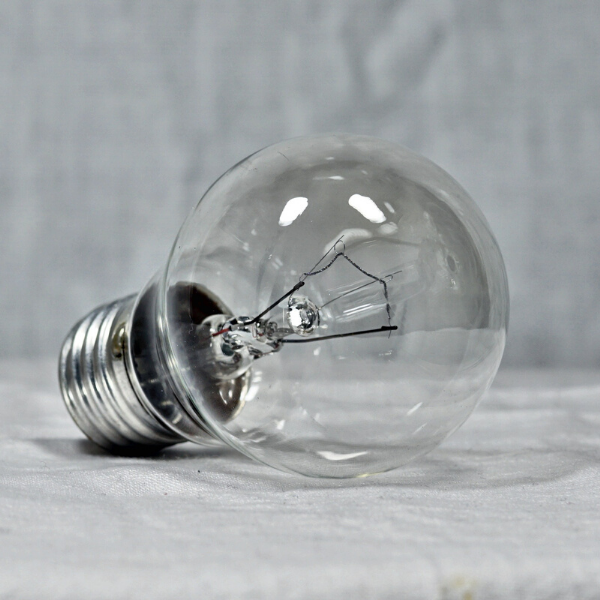Light_bulb: (44, 128, 525, 501)
